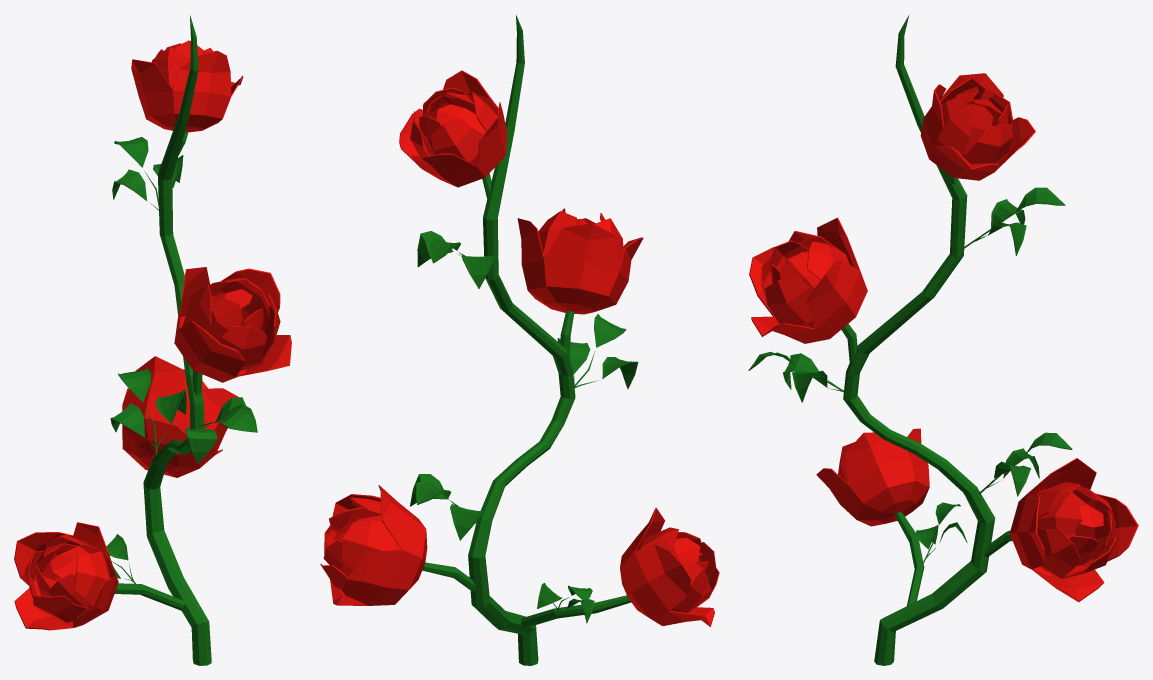
The model's file is Rose_Bush_01.obj.
The picture shows the model from 3 angles, left to right: view 1: azimuth 30°, elevation 25°; view 2: azimuth 150°, elevation 25°; view 3: azimuth 270°, elevation 25°; orthographic projection. The views are drawn at different scales.
Parts seen in each view (by area): view 1: Rose_bush_Circle.006; view 2: Rose_bush_Circle.006; view 3: Rose_bush_Circle.006.
Part boxes in pixels (<box>): Rose_bush_Circle.006: <box>14,15,291,665</box>; Rose_bush_Circle.006: <box>320,15,719,665</box>; Rose_bush_Circle.006: <box>748,15,1138,665</box>.
Bounding box in the file's own units: 6.97 × 14.56 × 7.95.
